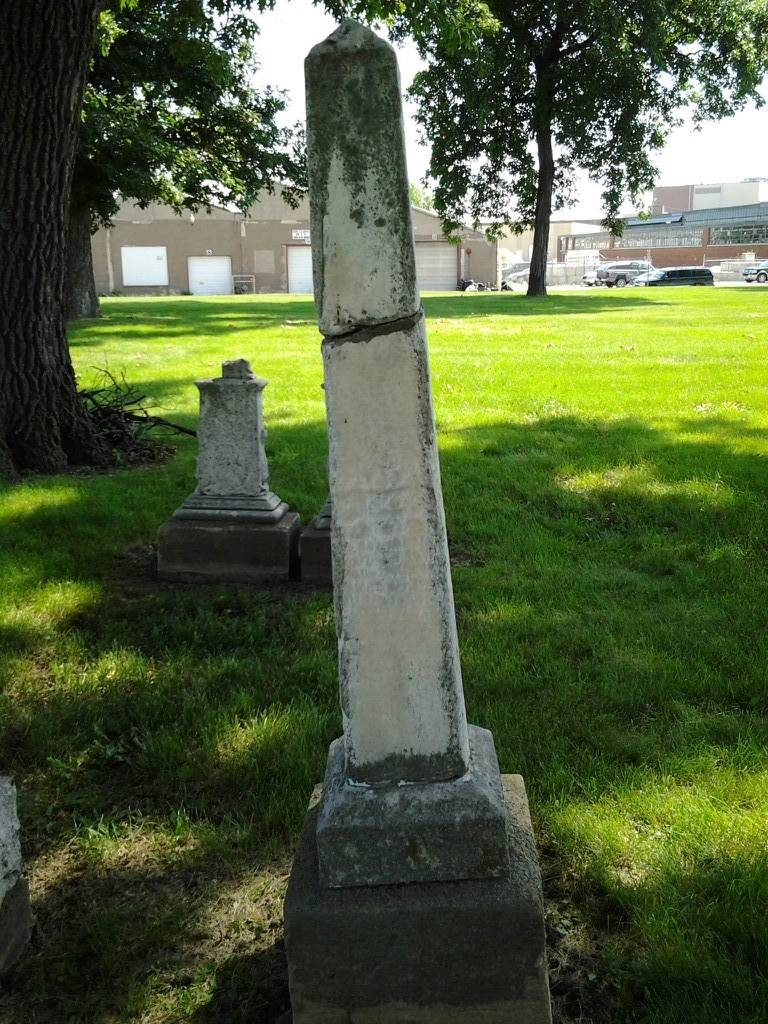obelisk: (286, 18, 555, 1013)
